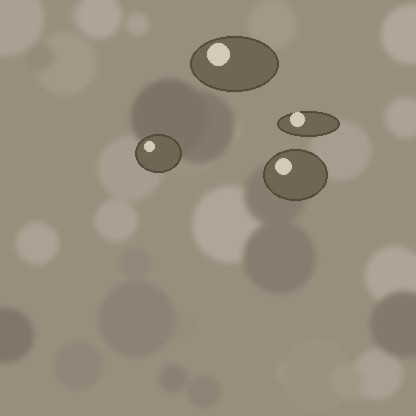gota: (190, 38, 278, 96), (263, 151, 327, 205), (135, 135, 181, 175), (277, 112, 339, 138)
